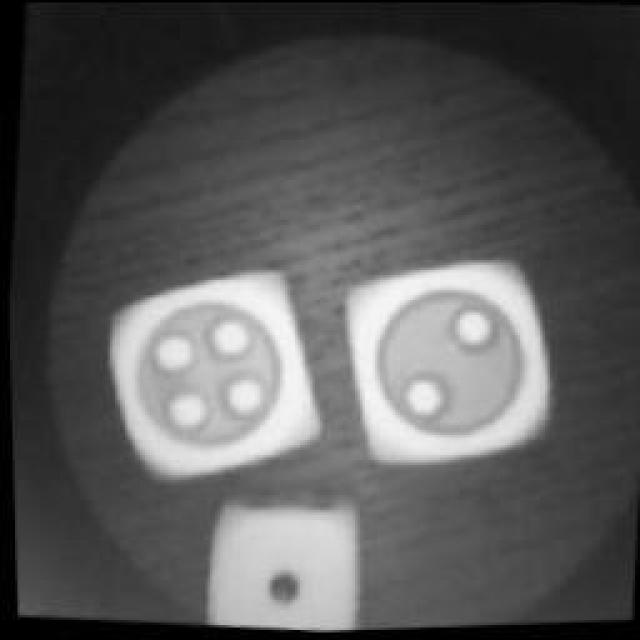dice_1: (196, 492, 369, 636)
dice_2: (325, 242, 570, 488)
dice_4: (90, 262, 335, 496)
